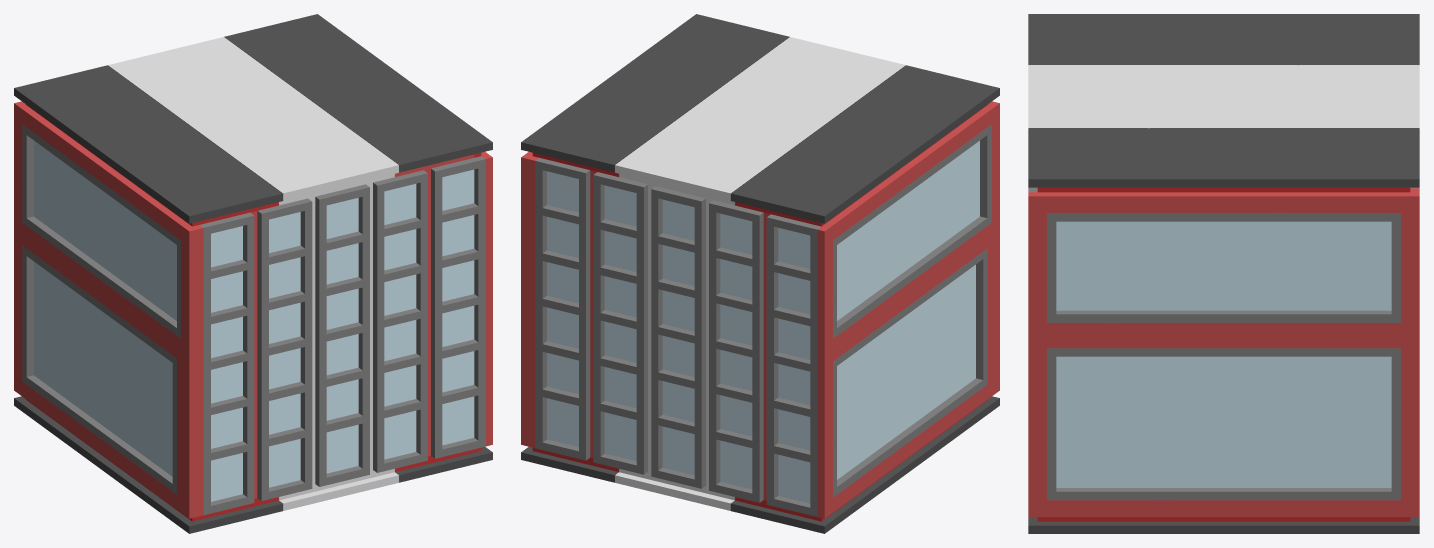
The model's file is Tower_6.fbx.
3 views of the same model, side by side, from view 1: azimuth 30°, elevation 25°; view 2: azimuth 150°, elevation 25°; view 3: azimuth 270°, elevation 25° (orthographic). The views are drawn at different scales.
Parts seen in each view (by area): view 1: Box; view 2: Box; view 3: Box.
Boxes of the visible parts, left/top/right/bottom form: Box: left=14, top=14, right=492, bottom=533; Box: left=521, top=14, right=999, bottom=533; Box: left=1028, top=14, right=1419, bottom=533.
Bounding box in the file's own units: 42 × 42 × 42.
Materials: 1 (1 with a texture image).
